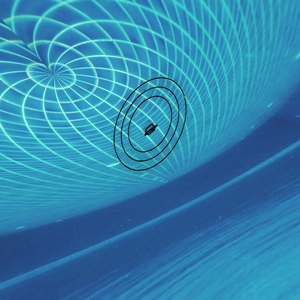circle: (113, 66, 210, 177)
